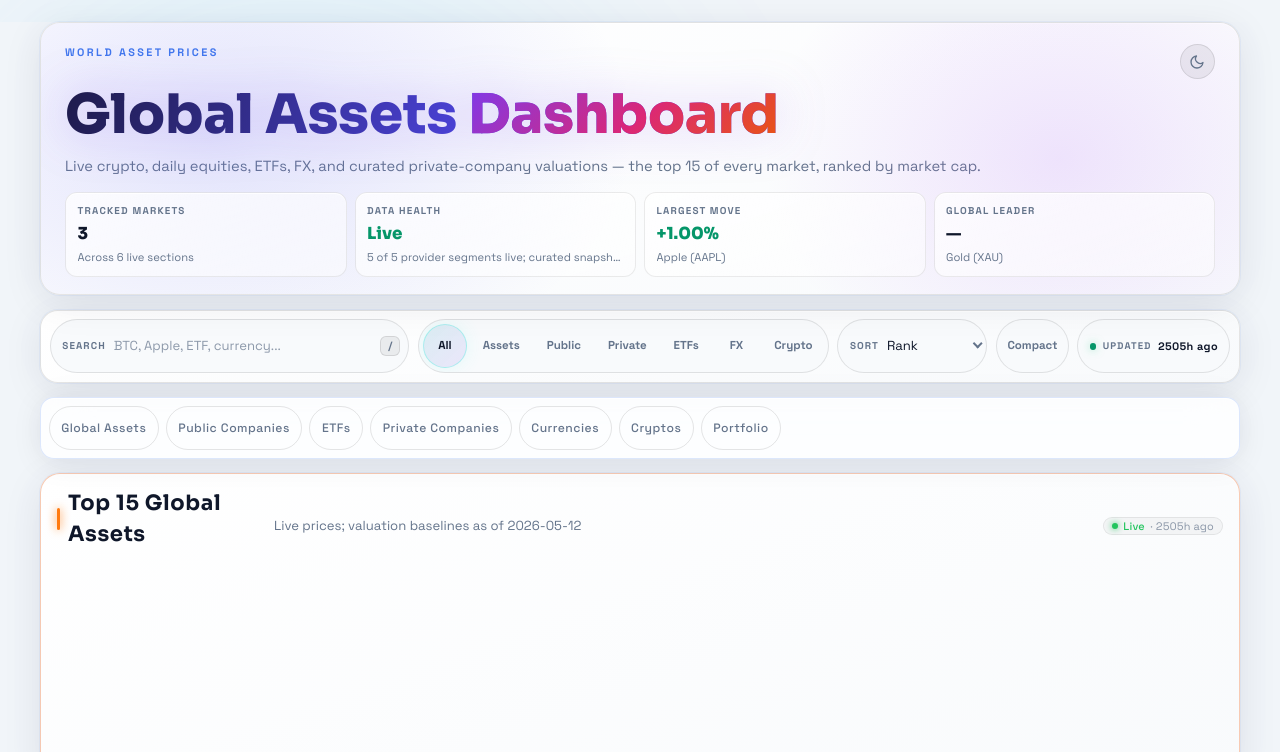
Test: App › filters visible market cards by search text
Type "apple" into the search field named "Search markets" at (243, 346), box [114,324,372,368]
(page scrolled)
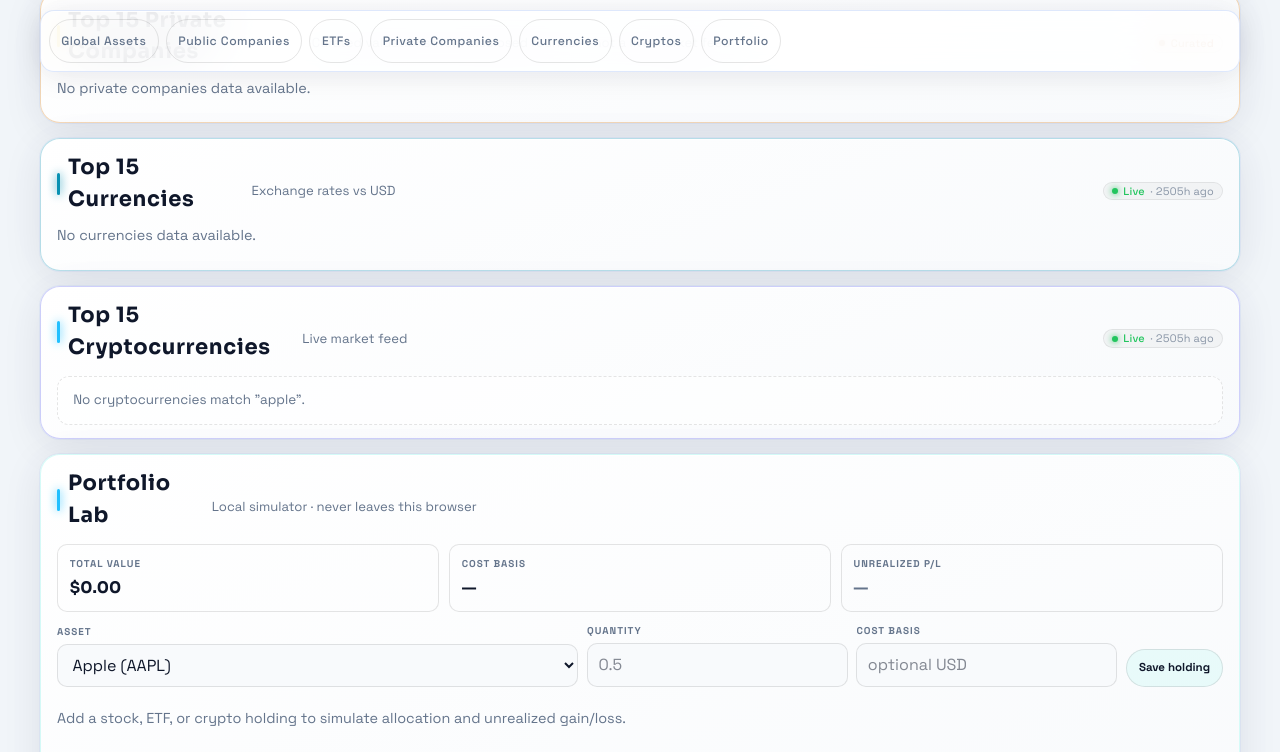
Check: the text "No cryptocurrencies match \"apple\"." is shown, box [57,376,1223,425]
